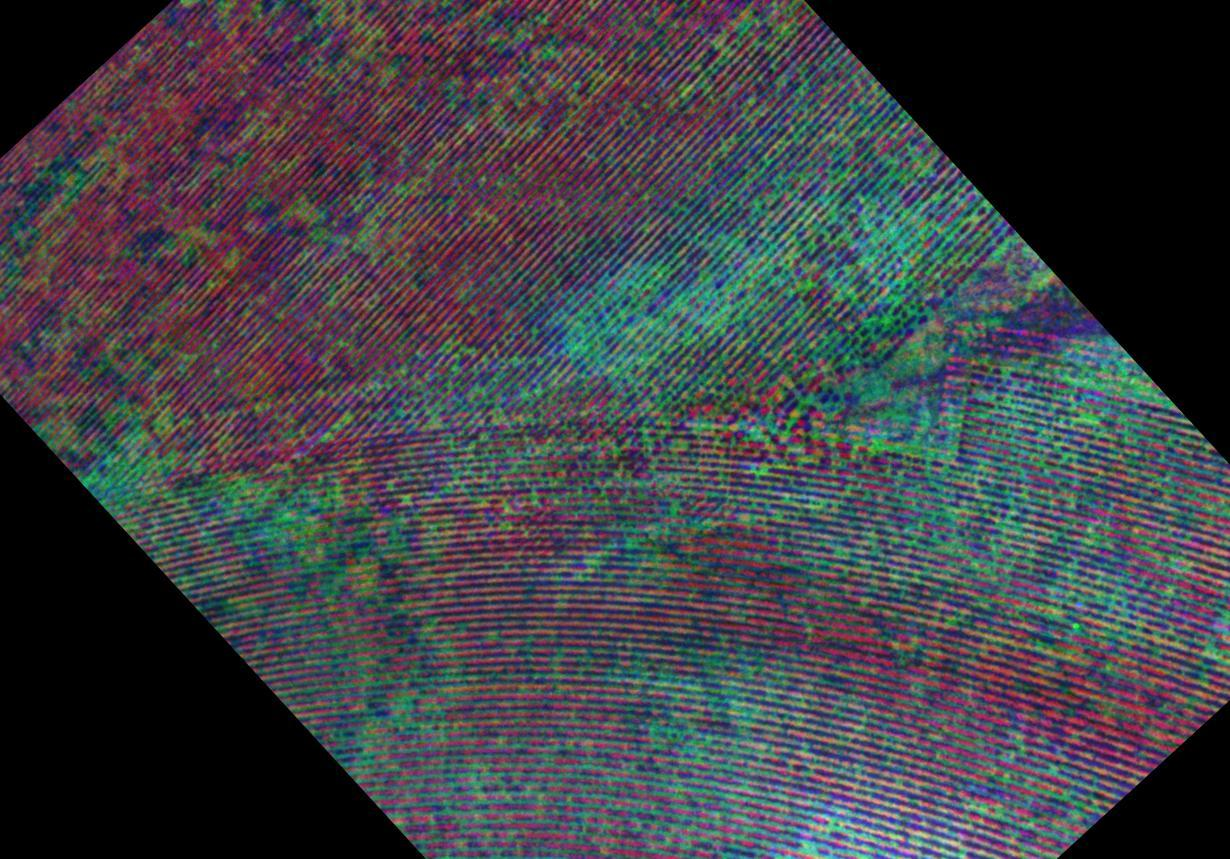dc: (656, 228, 771, 334), (843, 385, 954, 472), (558, 305, 663, 390), (93, 425, 177, 513), (356, 668, 434, 735)
